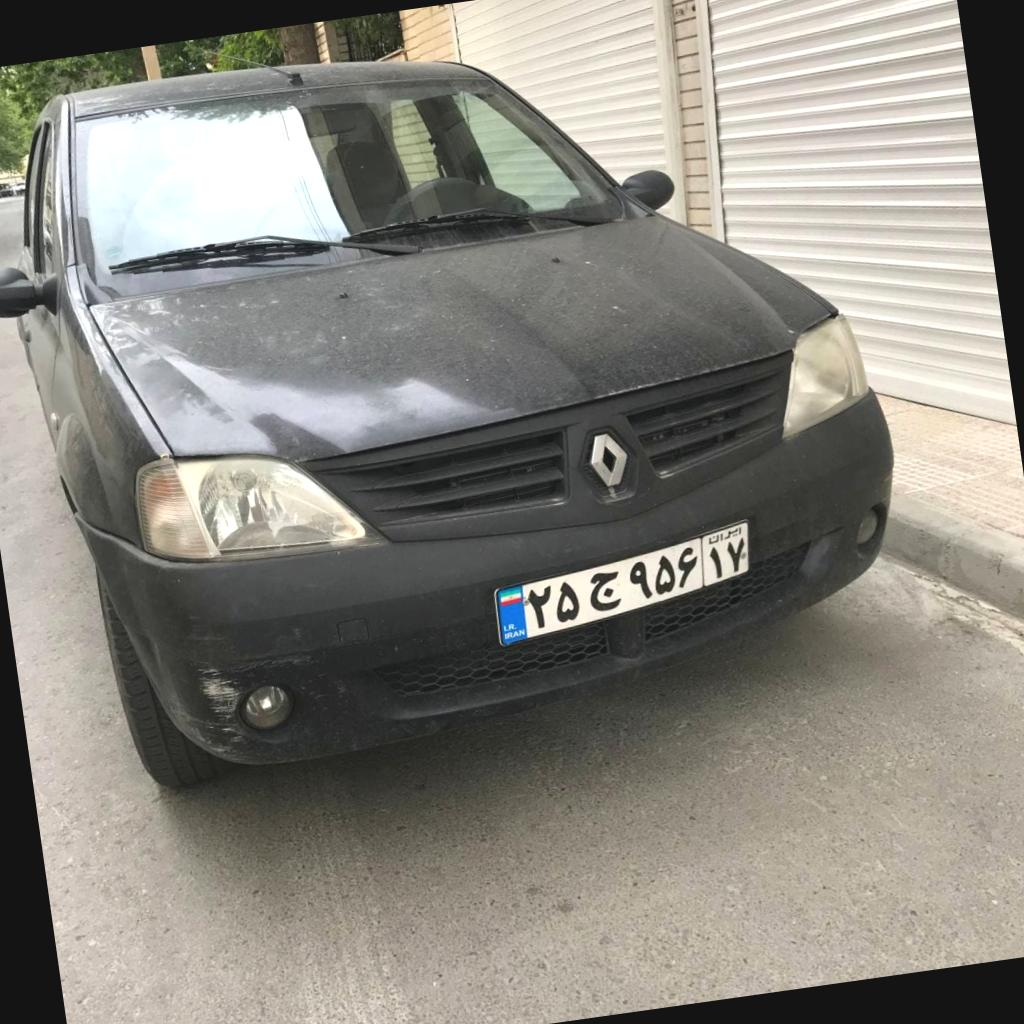Plates: (496, 522, 749, 646)
